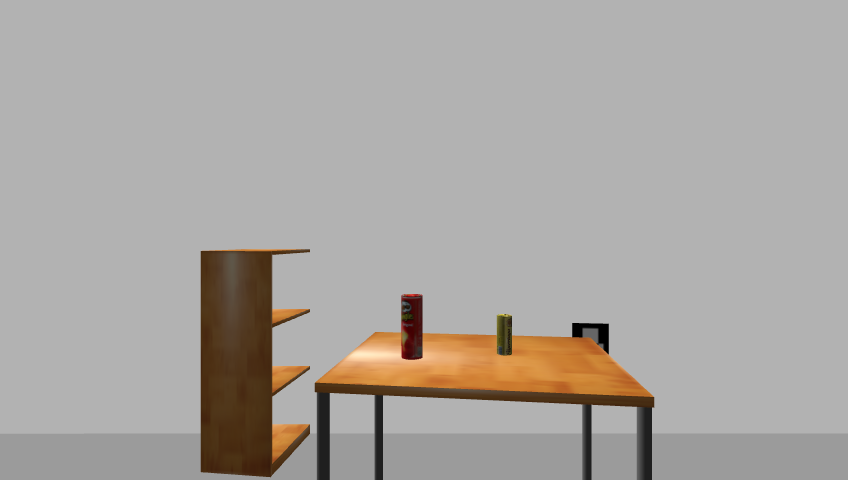aruco marker: (568, 321, 611, 356)
biscuits pack: (495, 314, 513, 357)
bookshelf: (195, 246, 317, 480)
dinner table: (310, 332, 662, 479)
pringles can: (399, 293, 423, 361)
